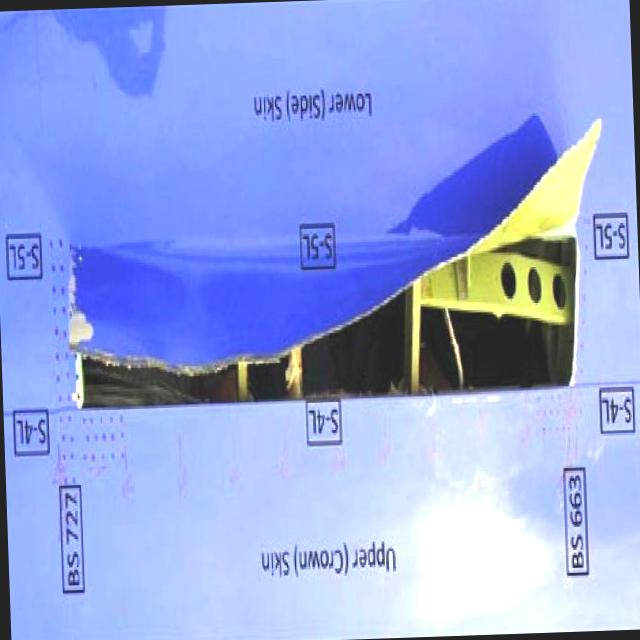crack: (62, 108, 616, 406)
